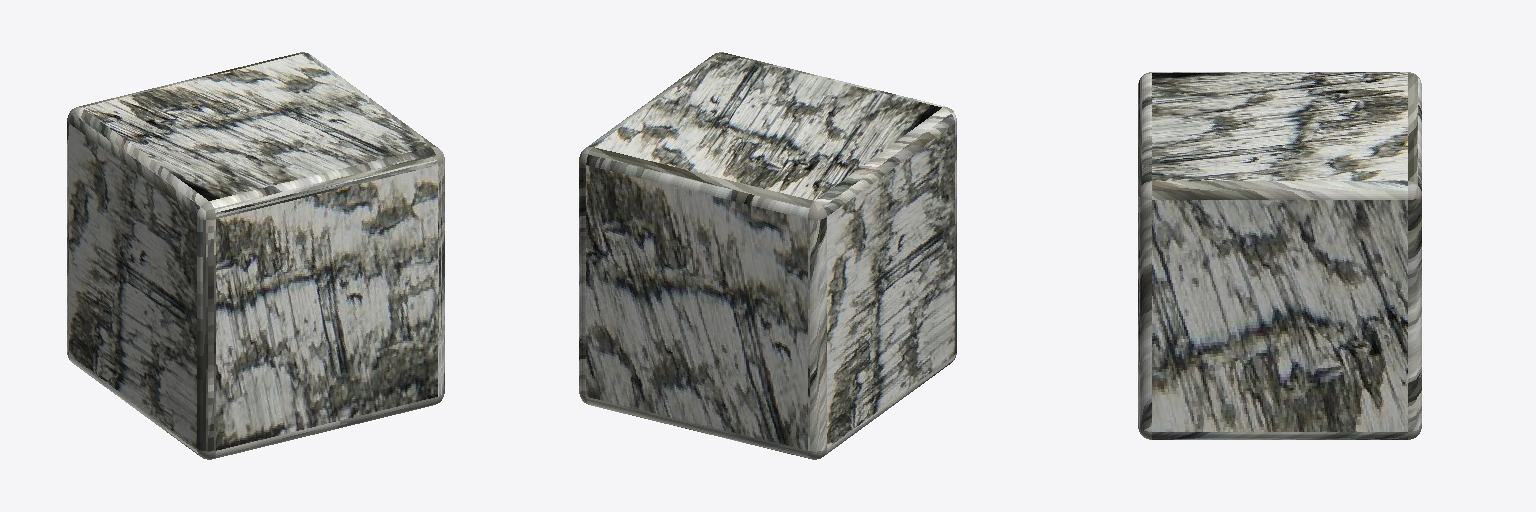
3 renders of one model, left to right at view 1: azimuth 30°, elevation 25°; view 2: azimuth 150°, elevation 25°; view 3: azimuth 270°, elevation 25°, orthographic.
Visible parts, largest first — view 1: Cube; view 2: Cube; view 3: Cube.
Boxes of the visible parts, box(x1,y1,x2,y2) form: Cube: box(67, 52, 444, 459); Cube: box(579, 52, 956, 459); Cube: box(1138, 72, 1421, 439).
Size of the model in its own units: 2 by 2 by 2.
Materials: 1 (1 with a texture image).